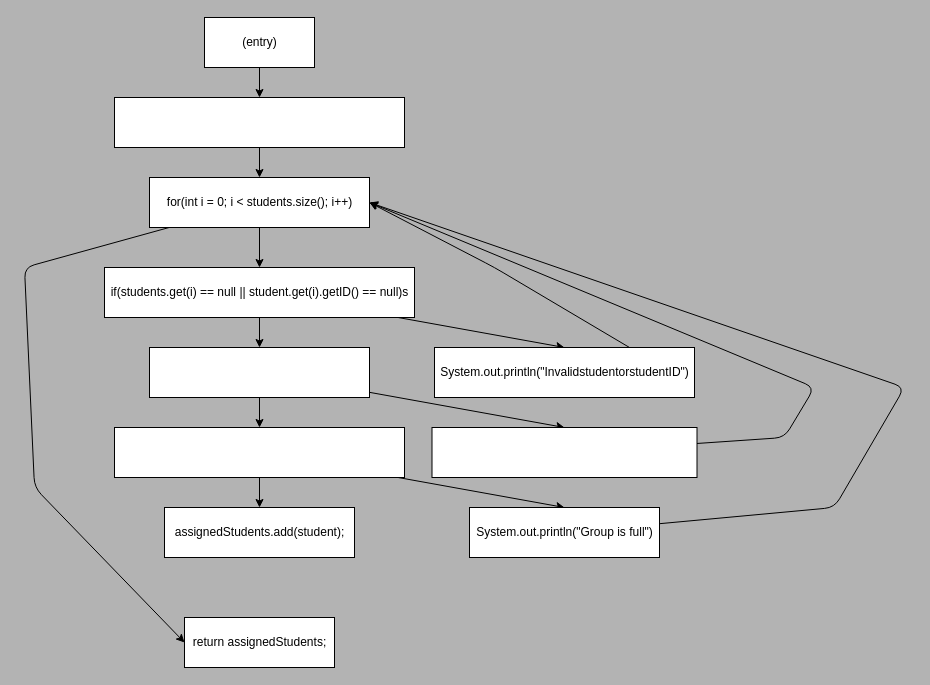
The diagram is 930 pixels wide and 685 high, and some of its shapes have lost their labels. The centre of each missing label's shape, as x and y in pixels:
if(assignedStudents.contains(student)): pixel 259 372
if(assignedStudents.size() >= group.getCapacity()): pixel 259 452
List<Student> assignedStudents = new ArrayList<>();: pixel 259 122
System.out.println("Studentalreadyassigned"): pixel 564 452
